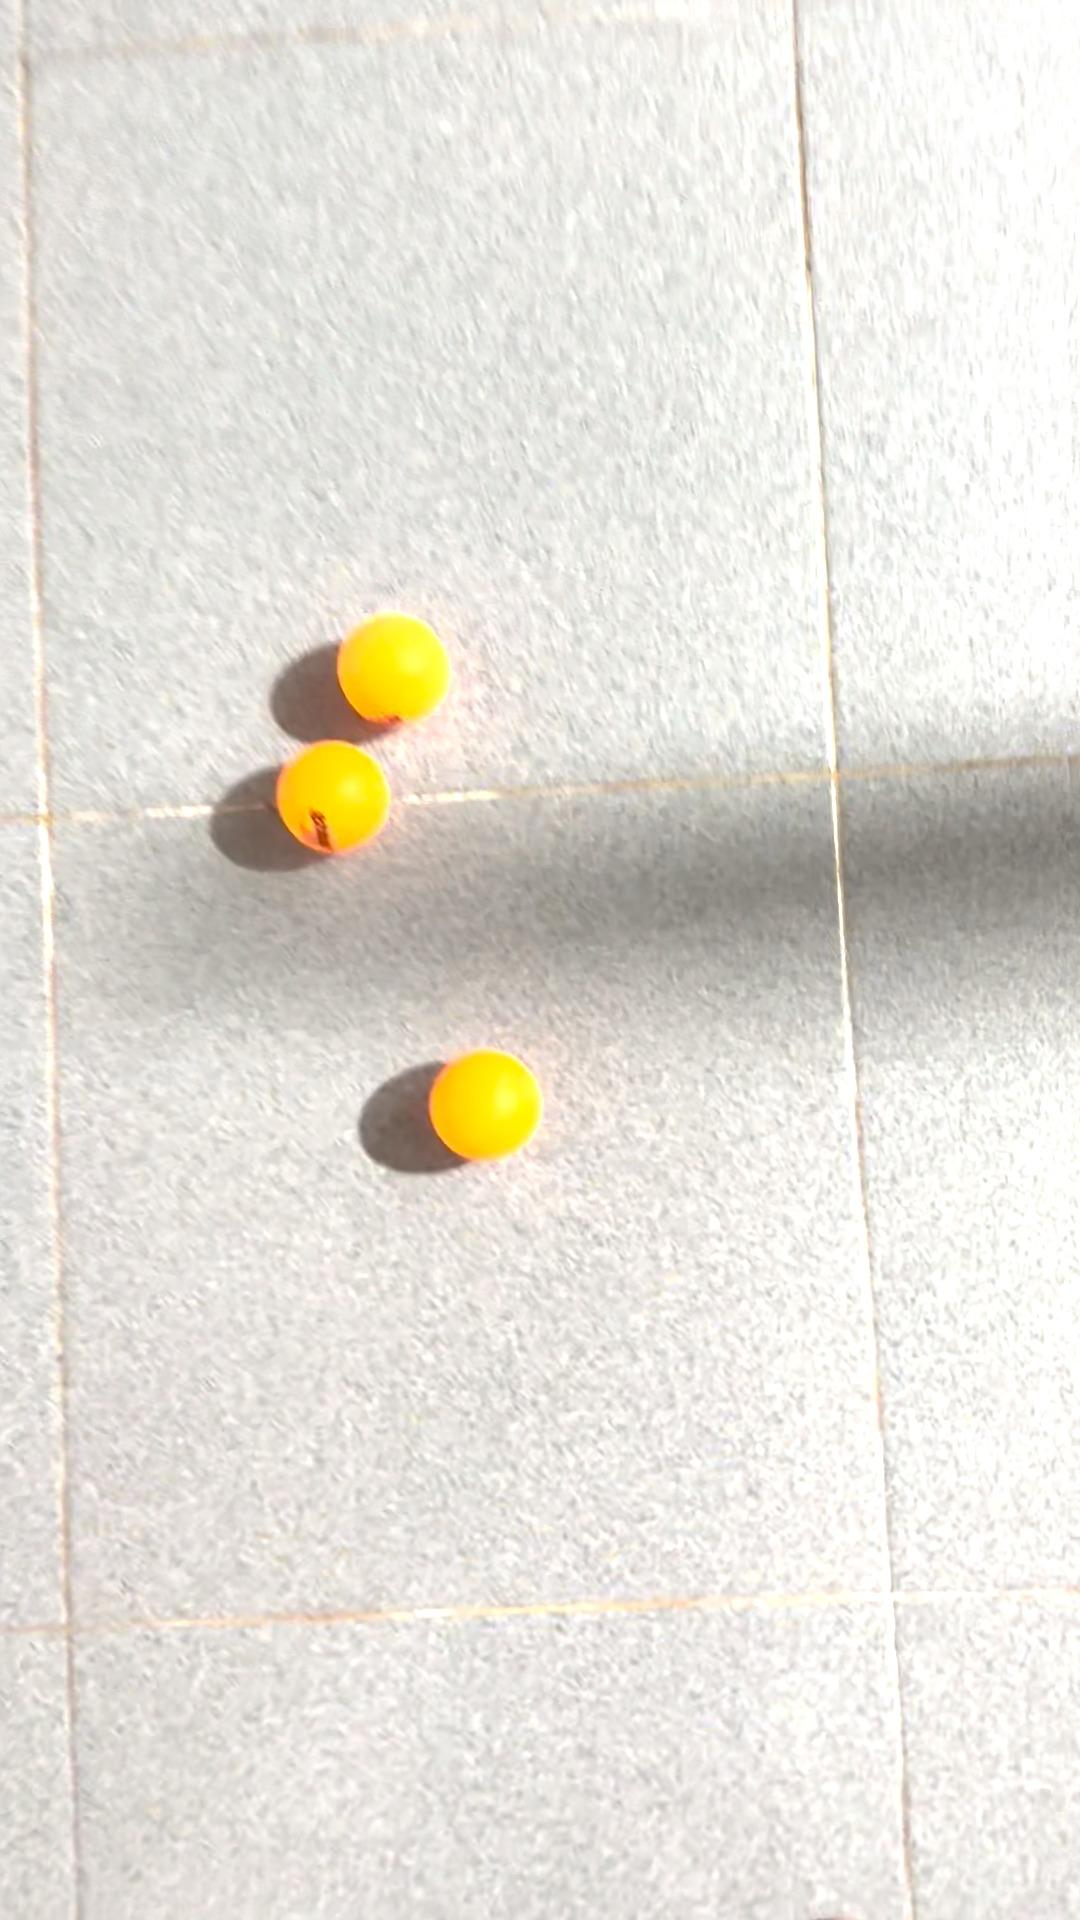oball: (261, 737, 409, 873), (421, 1039, 546, 1171), (335, 604, 455, 728)
